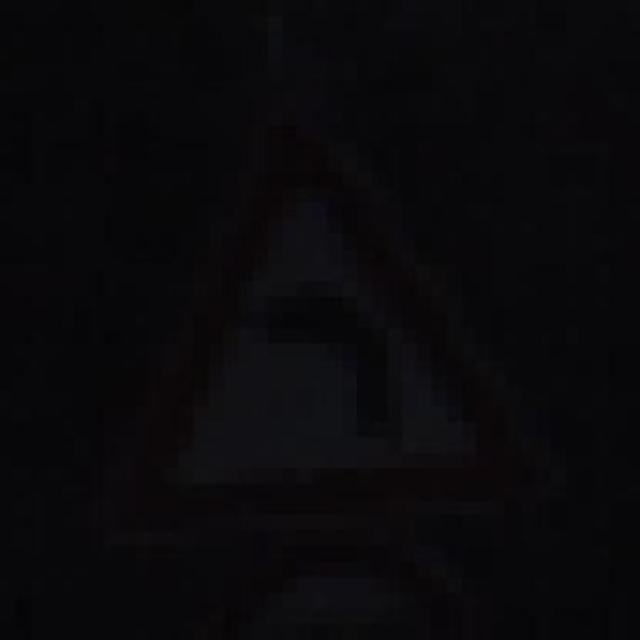Dangerous Left Curve Ahead: (100, 139, 546, 530)
